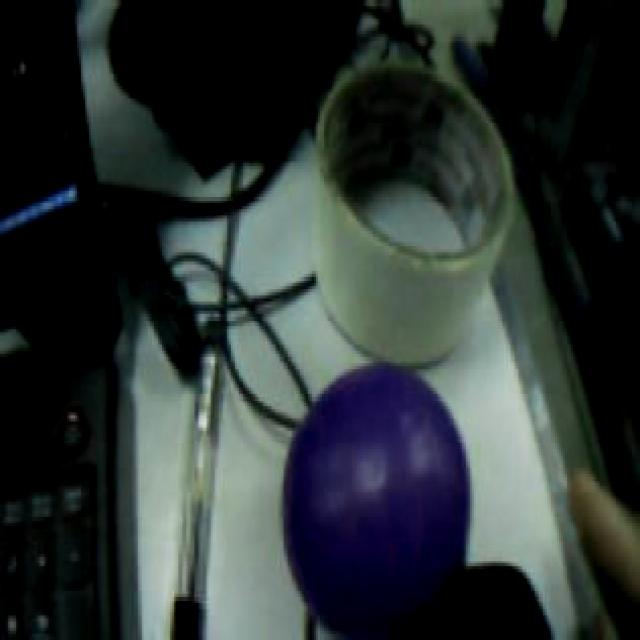BallPurple: (280, 363, 470, 640)
